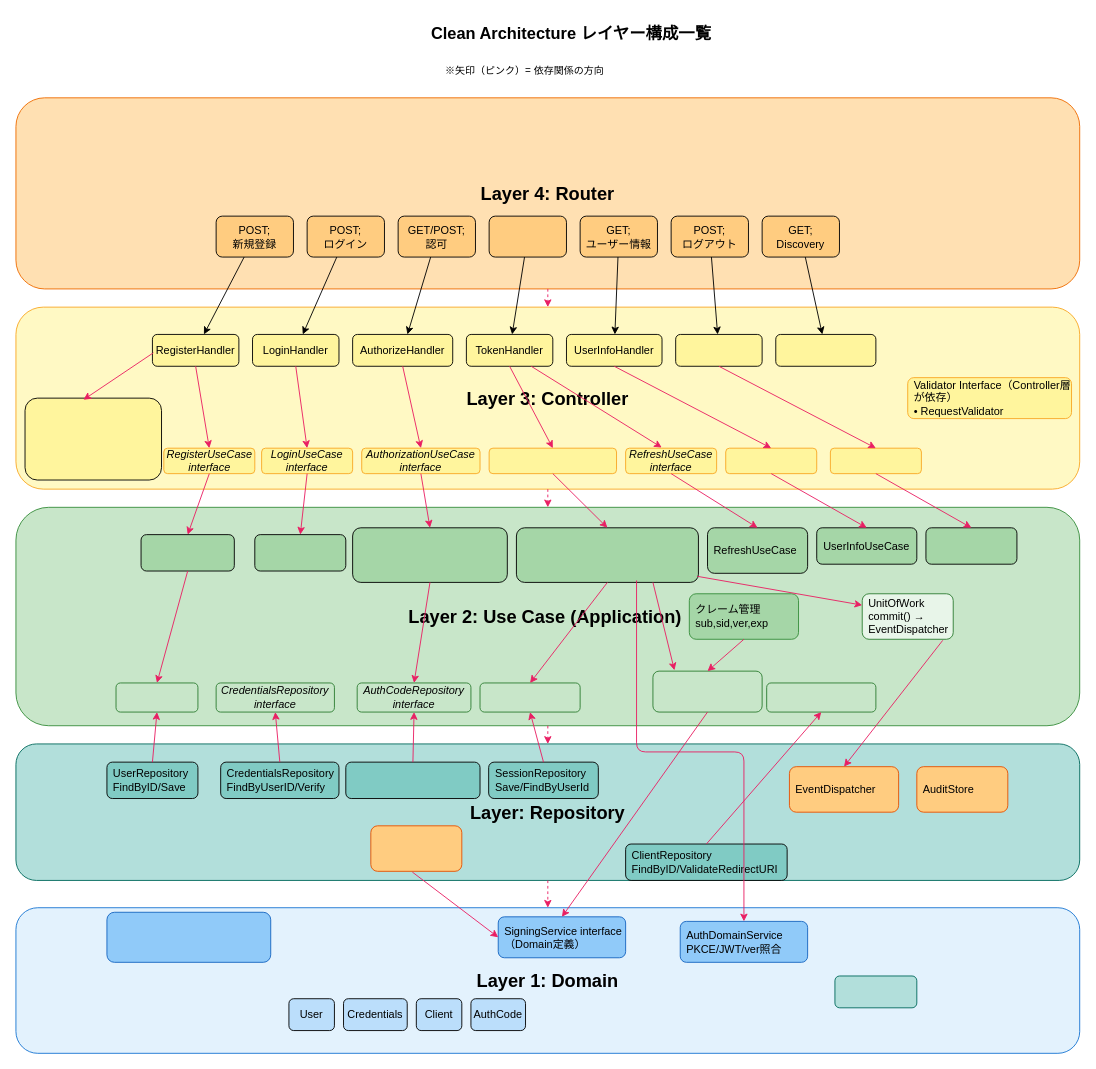
This 1096x1069 diagram has some shape labels left out. The centre of each missing label's shape, as x and y in pixels:
AuthCodeRepository Save/FindByCode/Delete: point 412,780
AuthorizationUseCase 認証・Consent・Code発行・Session生成: point 429,554
ClientRepository interface: point 821,697
DiscoveryHandler: point 825,350
Domain Event: point 875,991
KeyProvider: point 416,848
LoginUseCase: point 300,552
LogoutHandler: point 718,350
LogoutUseCase: point 971,545
LogoutUseCase interface: point 875,460
POST; トークン: point 527,236
RegisterUseCase: point 187,552
RequestValidator（Controller層） • 型チェック • 必須項目 ※入出力の整形のみ: point 93,438
Session Aggregate tokenVersion, RefreshToken, Device: point 188,936
SessionRepository interface: point 529,697
SigningService interface: point 707,691
TokenExchangeUseCase interface: point 552,460
TokenExchangeUseCase PKCE検証・Code消費・Token発行: point 607,554
UserInfoUseCase interface: point 771,460
UserRepository interface: point 156,697
